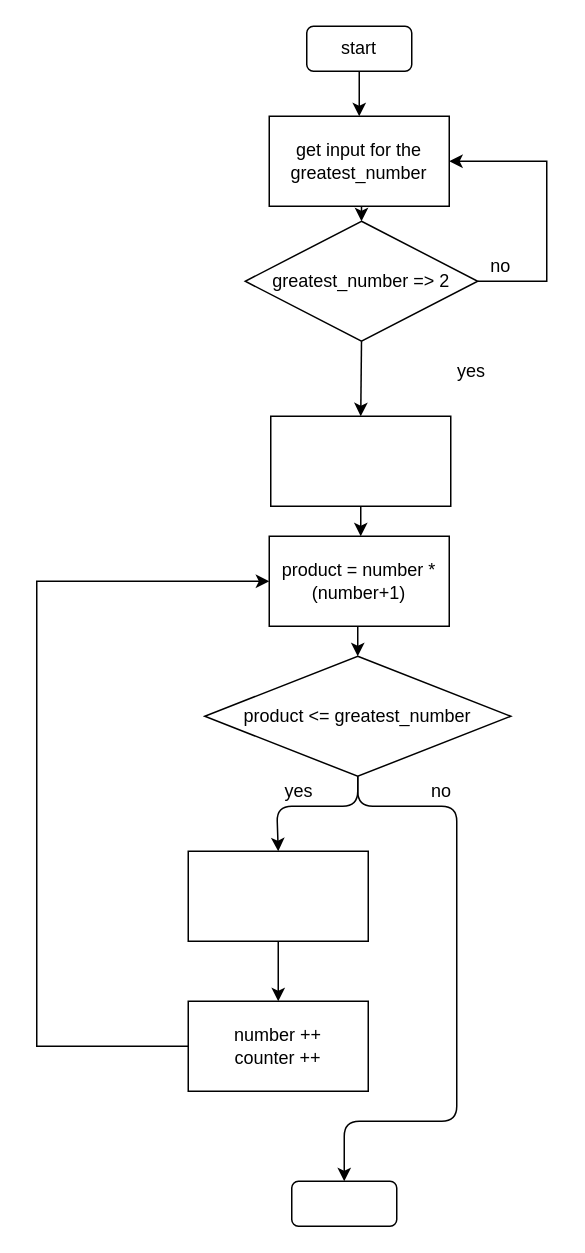
The diagram is 585 pixels wide and 1253 high, and some of its shapes have lost their labels. Here are the shapes that lost their labels. From the top down, the centre of each, then its label:
At (x=360, y=460): "set number to 0 set counter to 0".
At (x=277, y=895): "print counter, product".
At (x=343, y=1203): "end".
